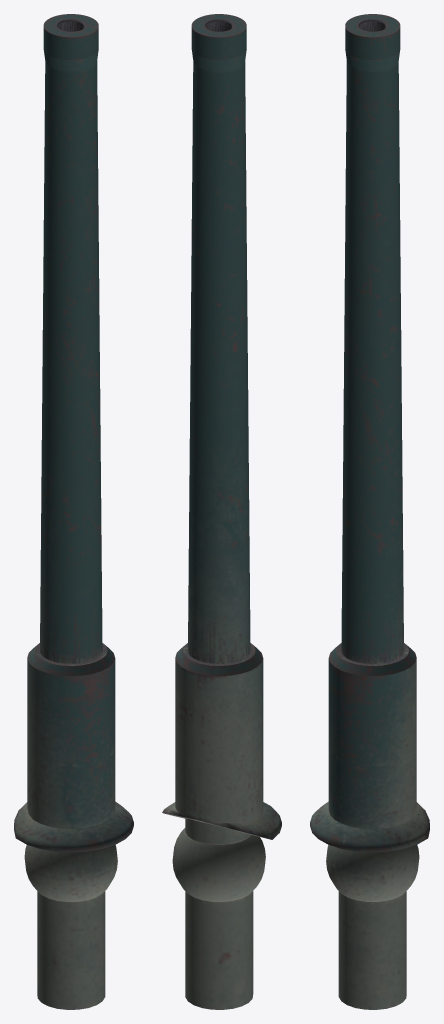
The model's file is Gun_03.glb.
3 renders of one model, left to right at view 1: azimuth 30°, elevation 25°; view 2: azimuth 150°, elevation 25°; view 3: azimuth 330°, elevation 25°, orthographic.
Visible parts, largest first — view 1: set_0_group_0; view 2: set_0_group_0; view 3: set_0_group_0.
Part boxes in pixels (x1,y1,x2,y2): set_0_group_0: (14,14,133,1009); set_0_group_0: (162,14,281,1009); set_0_group_0: (310,14,429,1009).
Bounding box in the file's own units: 0.5001 × 4.26 × 0.4365.
1 material, 1 textured.
